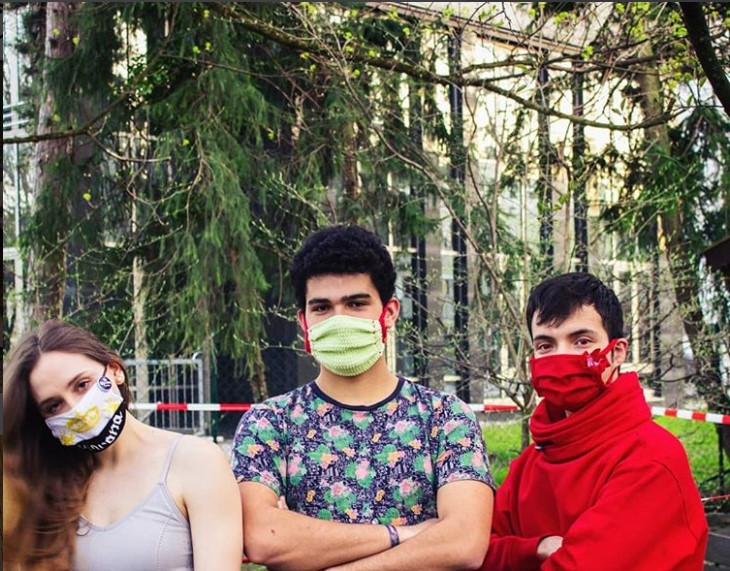face_with_mask: (517, 276, 633, 414), (295, 242, 402, 378), (25, 331, 133, 463)
